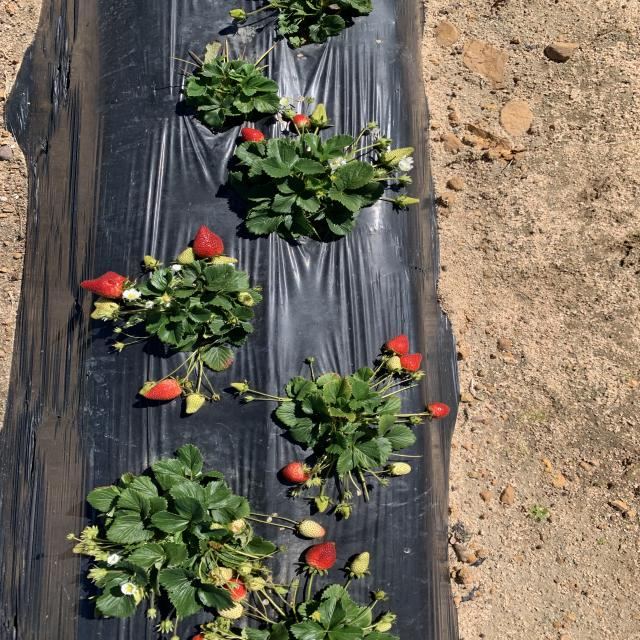unripe: (80, 271, 134, 299), (193, 225, 226, 257), (304, 541, 337, 570), (142, 379, 182, 401), (280, 462, 311, 484), (383, 333, 410, 357), (223, 578, 246, 600), (399, 353, 423, 372), (240, 126, 264, 144), (426, 402, 450, 418), (294, 114, 310, 128)
